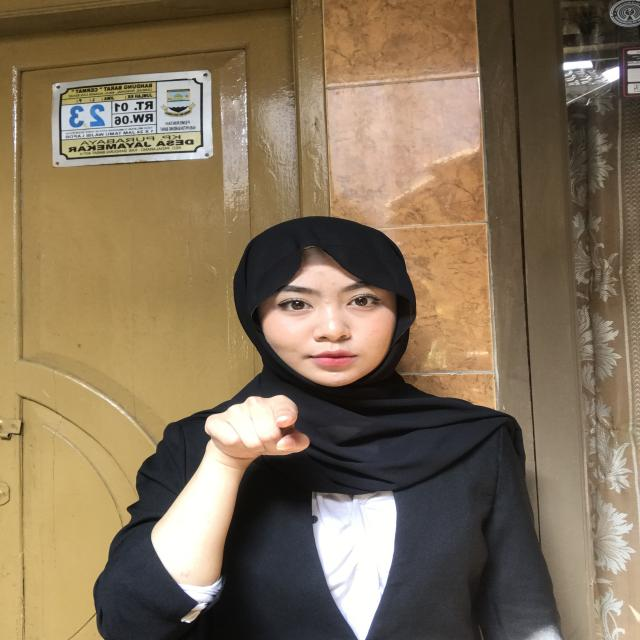kamu: (168, 386, 326, 502)
